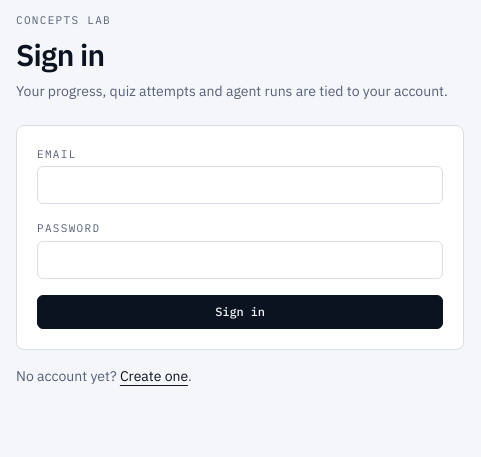
LoginPage › shows the server error for INVALID_CREDENTIALS
The width and height of the screenshot is (481, 457).
Type "learner@example.test" into the field labelled "Email" at (240, 185), box 37,166 -> 443,204
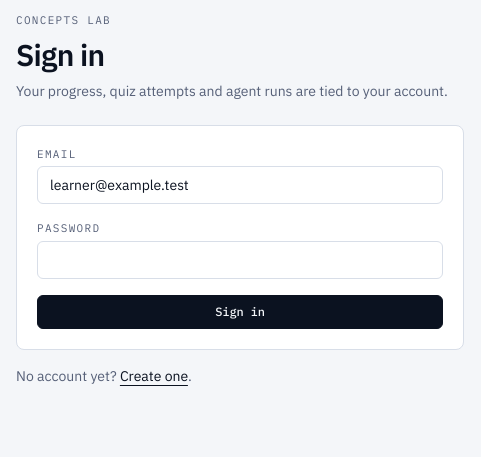
Type "whatever it takes" into the password field labelled "Password" at (240, 260), box 37,240 -> 443,278
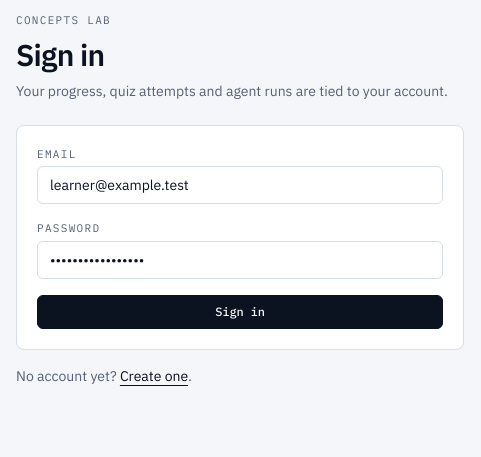
Click the button "Sign in" at (240, 312), box 37,294 -> 443,328
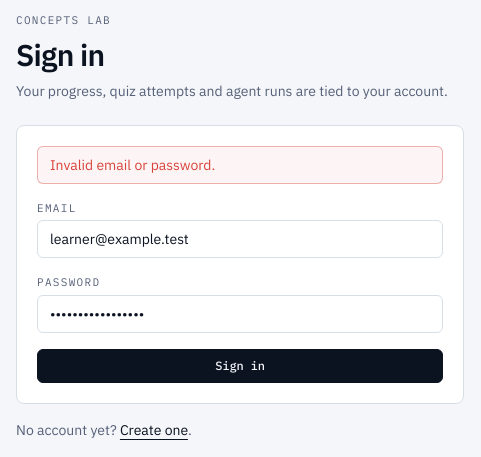
Expected: the message with test id "form-error" shows "Invalid email or password", 50,156 -> 215,174
